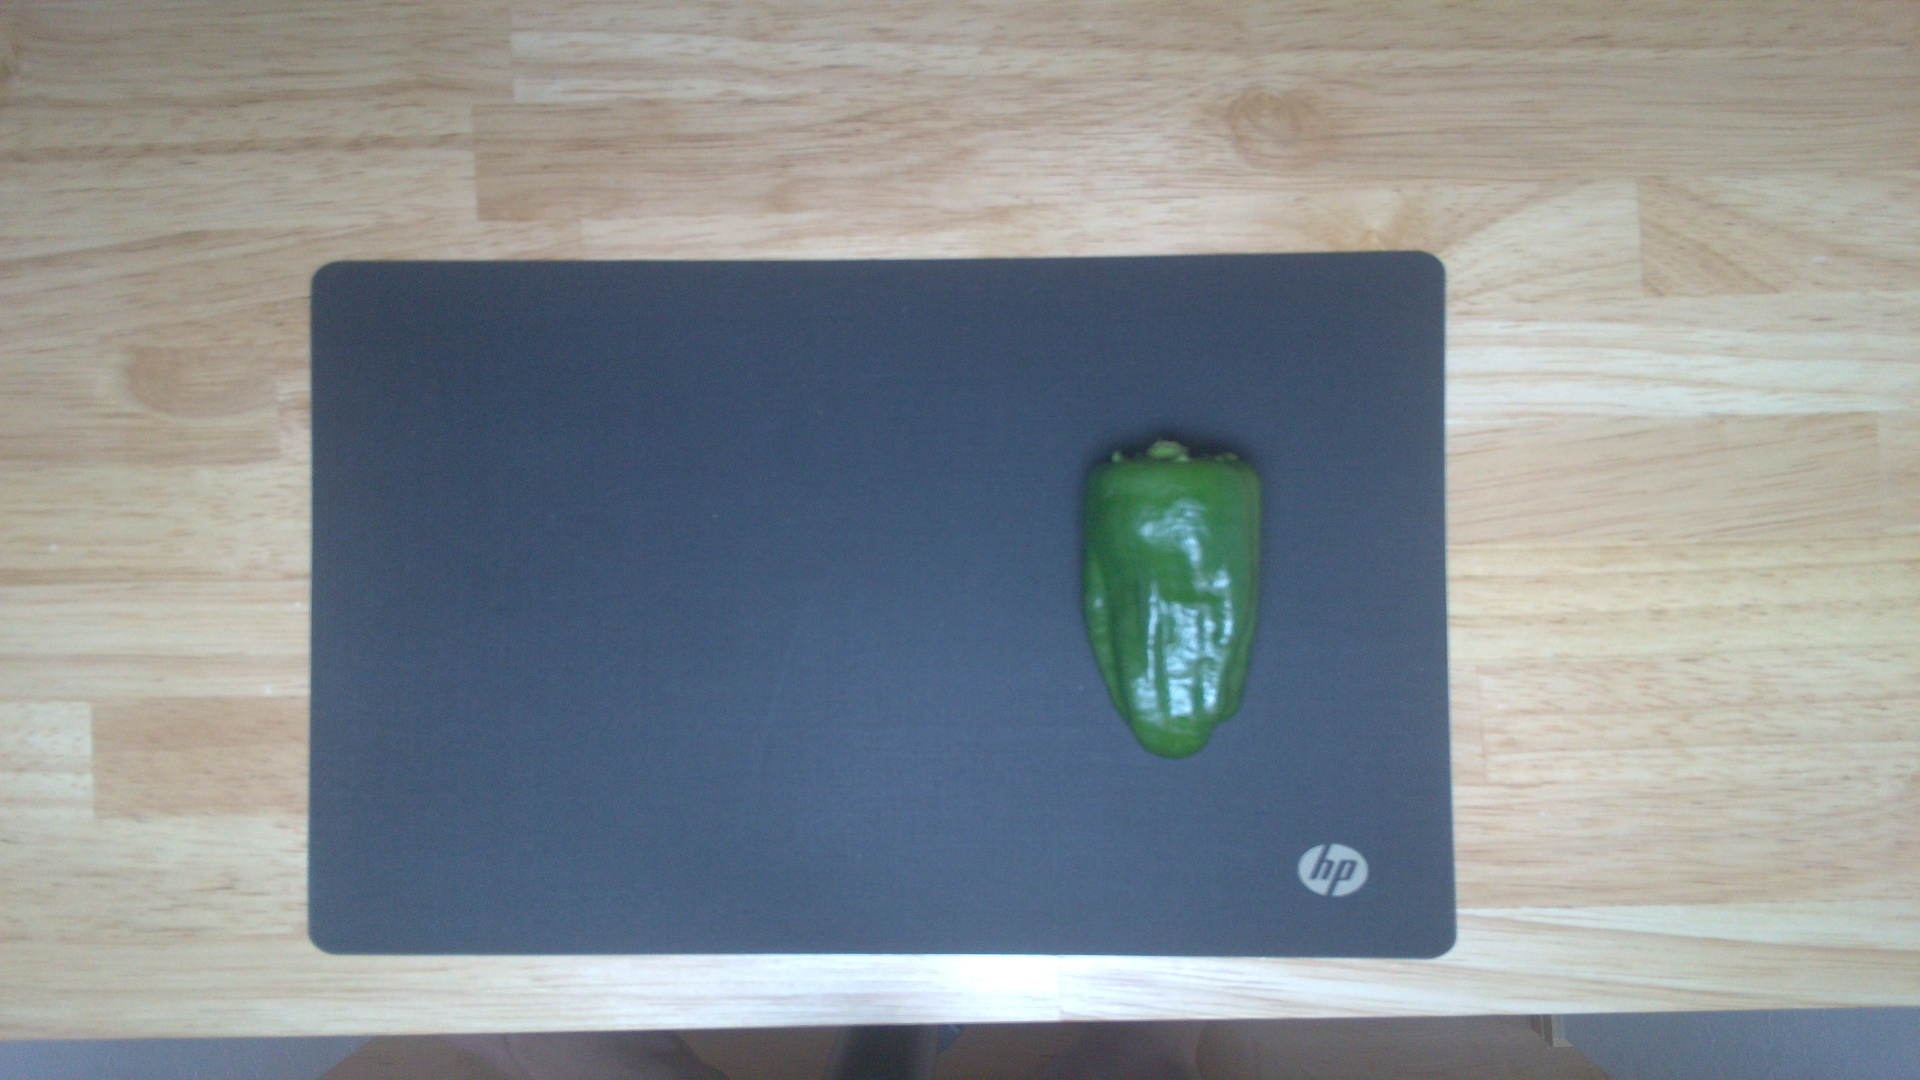Piman: (1071, 435, 1269, 764)
